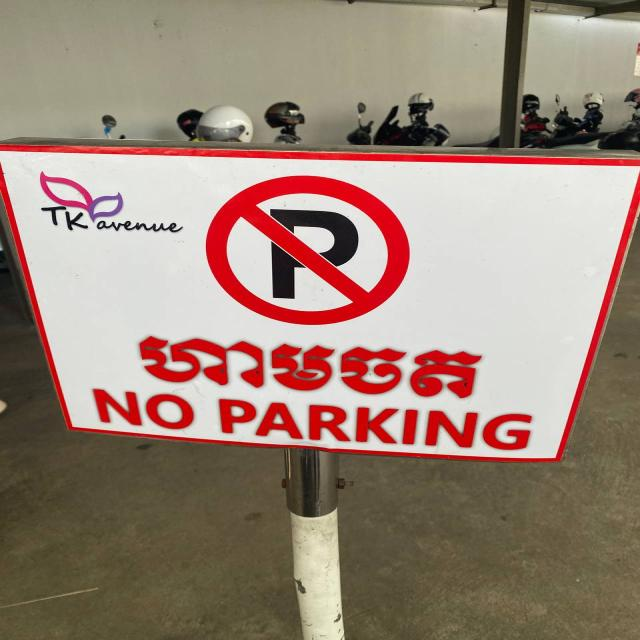Yolov11_80vkh: (123, 324, 493, 406)
